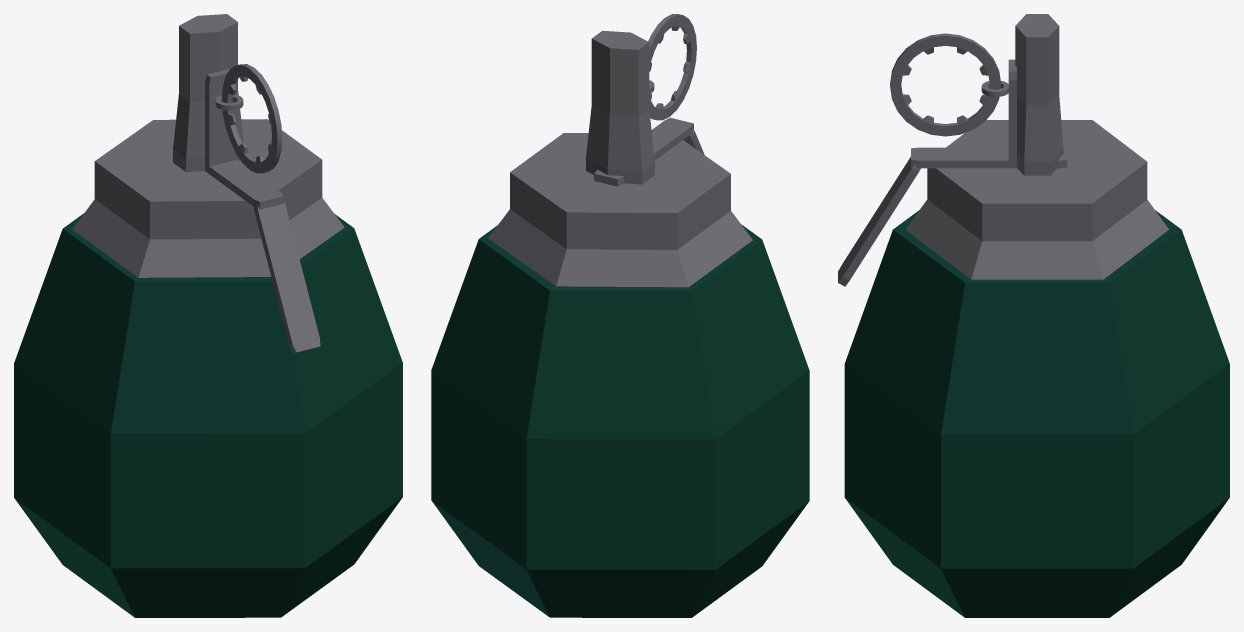
File: Grenade.fbx
The picture shows the model from 3 angles, left to right: view 1: azimuth 30°, elevation 25°; view 2: azimuth 150°, elevation 25°; view 3: azimuth 270°, elevation 25°; orthographic projection. The views are drawn at different scales.
Visible parts, largest first — view 1: leafs_round, hexagon_base (×2), roof_flat (×3), ring_inner; view 2: leafs_round, hexagon_base (×2), ring_inner, roof_flat; view 3: leafs_round, hexagon_base (×2), roof_flat (×3), ring_inner.
Boxes of the visible parts, bbox=[...] form: leafs_round: bbox=[14, 213, 402, 617]; hexagon_base (×2): bbox=[72, 14, 344, 277]; roof_flat (×3): bbox=[205, 68, 320, 353]; ring_inner: bbox=[221, 64, 282, 173]; leafs_round: bbox=[431, 224, 809, 617]; hexagon_base (×2): bbox=[488, 30, 752, 287]; ring_inner: bbox=[648, 14, 696, 120]; roof_flat: bbox=[594, 117, 693, 186]; leafs_round: bbox=[844, 210, 1229, 617]; hexagon_base (×2): bbox=[905, 14, 1168, 279]; roof_flat (×3): bbox=[838, 59, 1067, 286]; ring_inner: bbox=[890, 33, 1001, 136].
Size of the model in its own units: 12.1 by 21.4 by 14.1.
